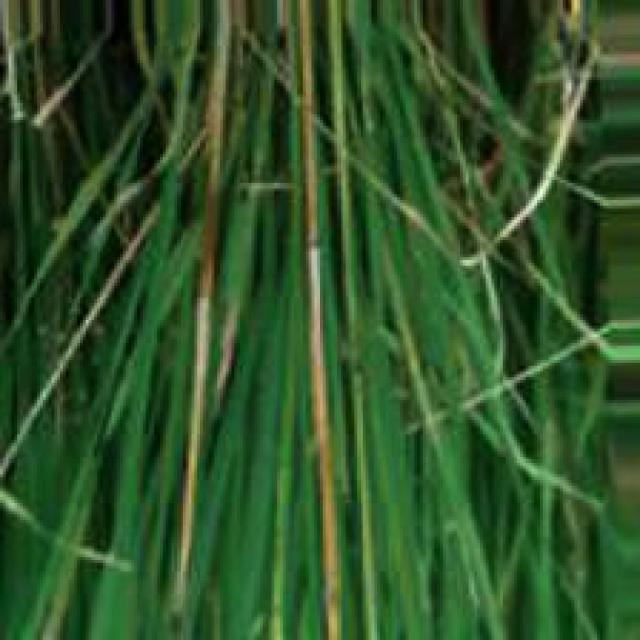Unhealthy: (174, 15, 229, 592), (299, 0, 341, 640)
